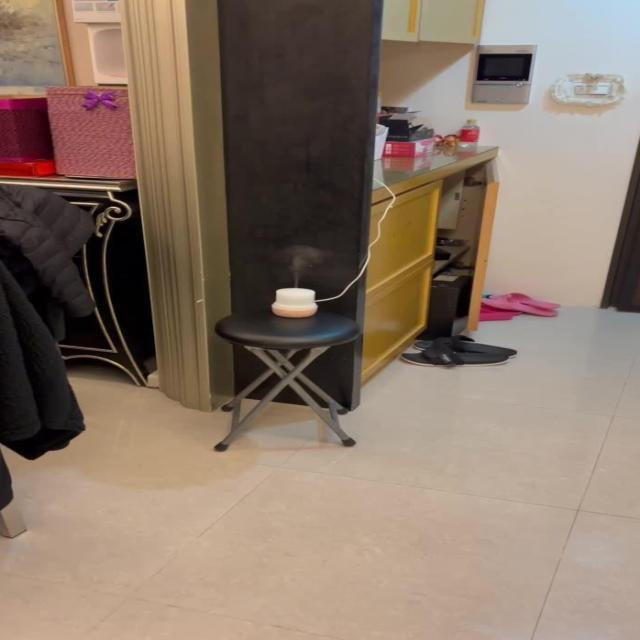fire: (274, 244, 336, 286)
